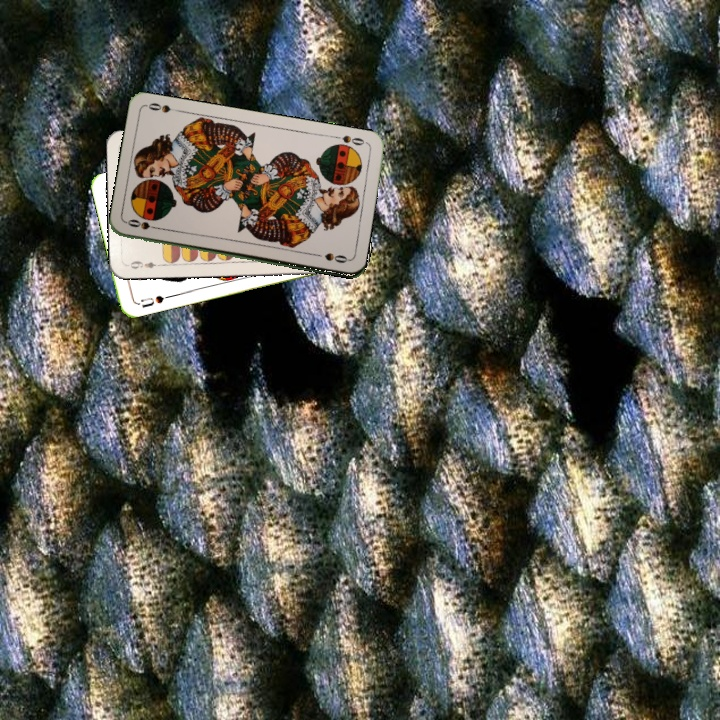E9: (124, 257, 164, 271)
SO: (329, 131, 370, 151), (124, 216, 164, 232)
SU: (133, 291, 173, 310)
